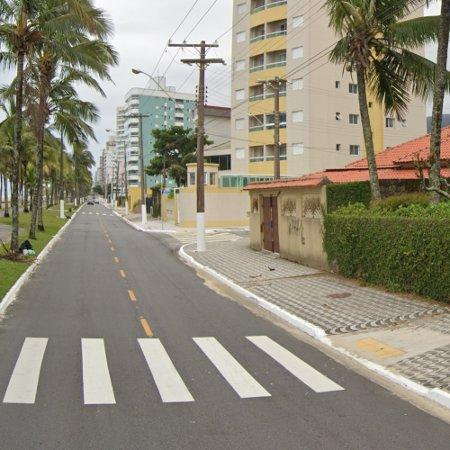crosswalk: (1, 333, 347, 404)
